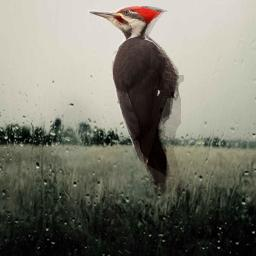Woodpecker: (85, 6, 184, 193)
